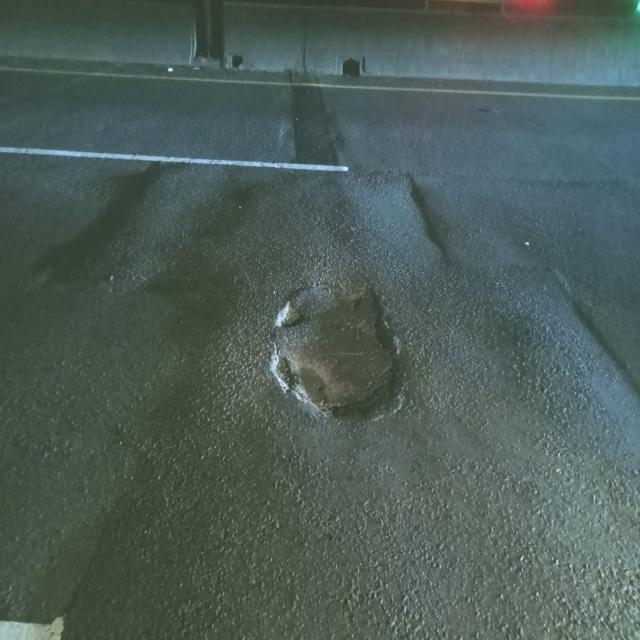Buraco: (266, 266, 411, 424), (22, 160, 168, 296)
